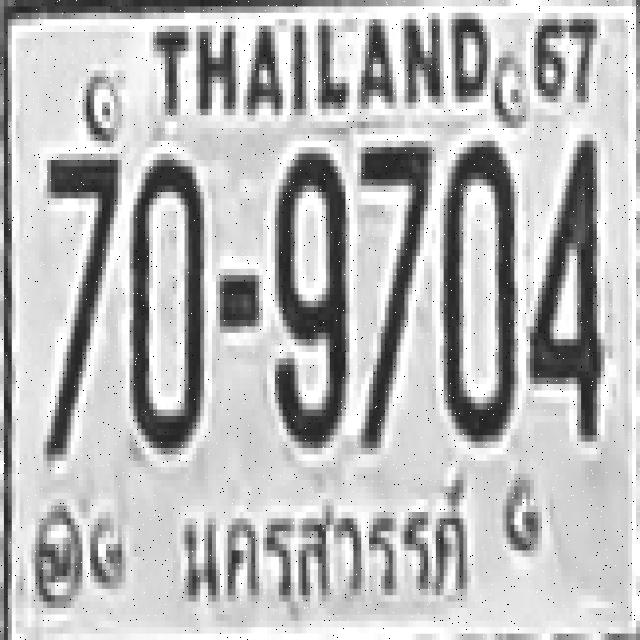0: (440, 134, 514, 436), (130, 154, 200, 448)
4: (526, 131, 600, 432)
7: (44, 148, 118, 454), (358, 140, 428, 442), (44, 150, 118, 356)
9: (271, 148, 345, 442)
NakhonSawan: (172, 476, 484, 628)
